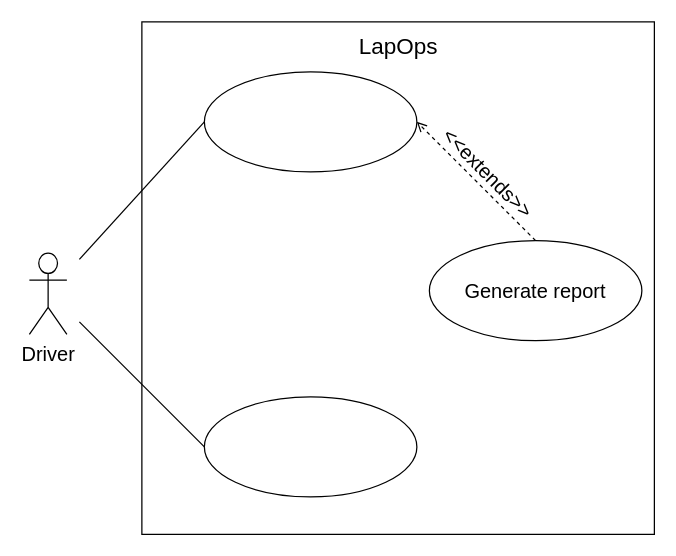
This 676x556 diagram has some shape labels left out. The centre of each missing label's shape, as x and y in pixels:
"Record racing performance" goes at point (310, 121).
"Review previous reports" goes at point (310, 446).
